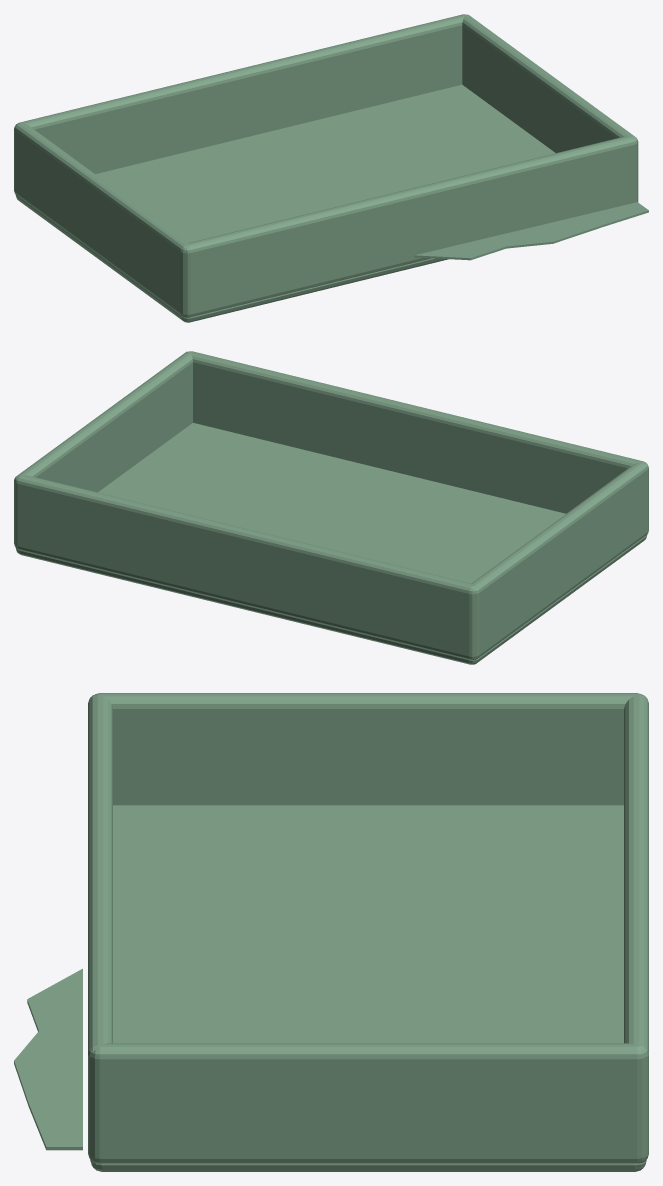
File: flash.glb
The picture shows the model from 3 angles, top to bottom: view 1: azimuth 30°, elevation 25°; view 2: azimuth 150°, elevation 25°; view 3: azimuth 270°, elevation 25°; orthographic projection. The views are drawn at different scales.
Parts seen in each view (by area): view 1: Tray base.001, Thin parting flash; view 2: Tray base.001; view 3: Tray base.001, Thin parting flash.
Part boxes in pixels (x1,y1,x2,y2): Tray base.001: (14,14,638,322); Thin parting flash: (414,202,648,260); Tray base.001: (14,351,648,664); Tray base.001: (88,693,648,1171); Thin parting flash: (14,968,82,1150).
Bounding box in the file's own units: 5.83 × 0.95 × 4.34.
